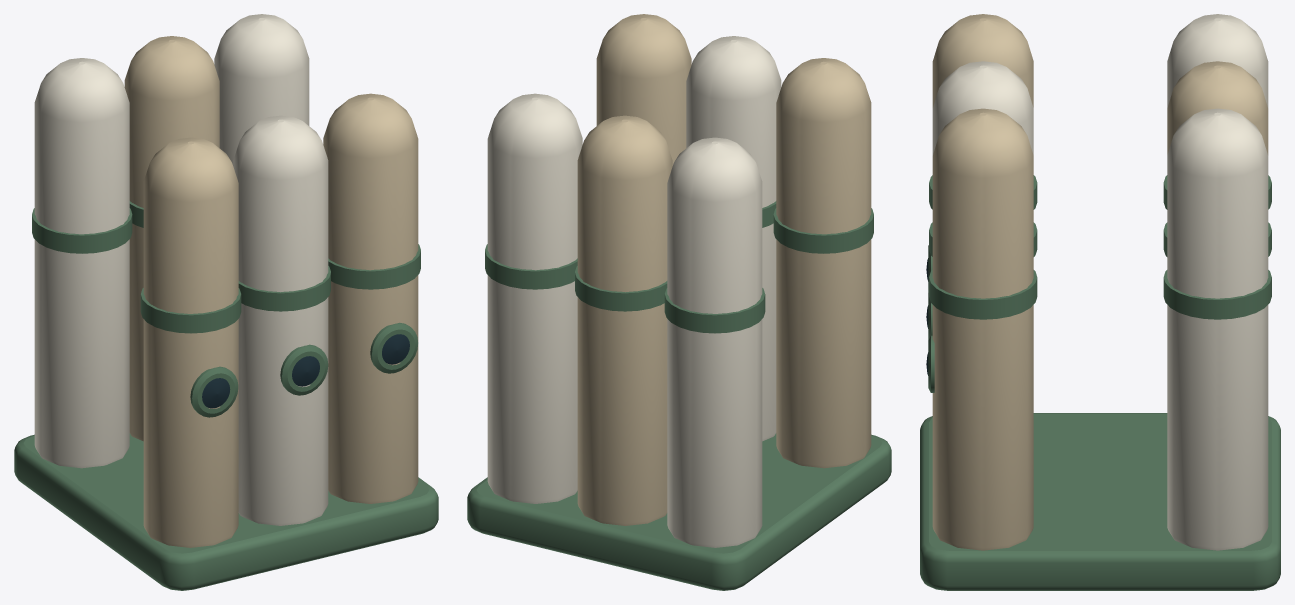
Rendered from t200_scrubber.obj.
The picture shows the model from 3 angles, left to right: view 1: azimuth 30°, elevation 25°; view 2: azimuth 150°, elevation 25°; view 3: azimuth 270°, elevation 25°; orthographic projection. The views are drawn at different scales.
Visible parts, largest first — view 1: t200_scrubber; view 2: t200_scrubber; view 3: t200_scrubber.
Boxes of the visible parts, x1,y1,x2,y2 form: t200_scrubber: (14,14,438,590); t200_scrubber: (467,14,891,590); t200_scrubber: (920,14,1280,590).
Size of the model in its own units: 1.9 by 2.78 by 2.
